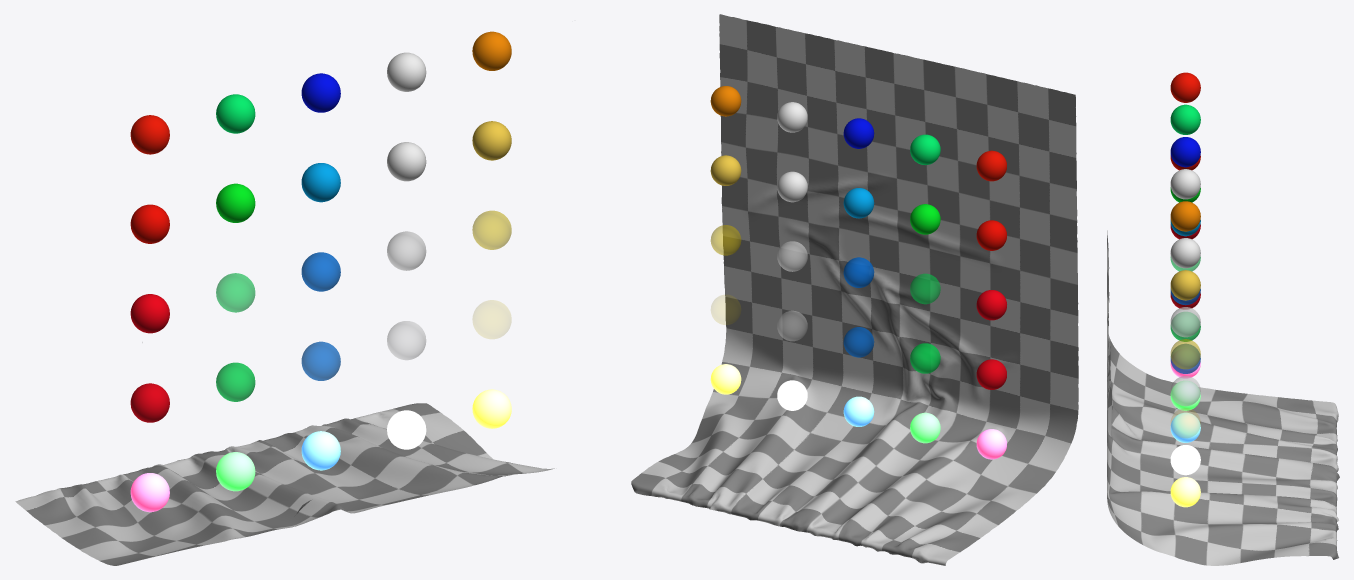
The picture shows the model from 3 angles, left to right: view 1: azimuth 30°, elevation 25°; view 2: azimuth 150°, elevation 25°; view 3: azimuth 270°, elevation 25°; orthographic projection. The views are drawn at different scales.
Parts seen in each view (by area): view 1: Cloth Backdrop, Sphere_metal0, Sphere_emissive0, Sphere_rough2, Sphere_emissive2, Sphere_rough4, Sphere_emissive3, Sphere_alpha3, Sphere_rough0, Sphere_metal4, Sphere_metal1, Sphere_transp4 (+14 smaller); view 2: Cloth Backdrop, Sphere_metal4, Sphere_emissive3, Sphere_rough3, Sphere_metal1, Sphere_emissive0, Sphere_rough2, Sphere_rough0, Sphere_transp2, Sphere_emissive1, Sphere_alpha4, Sphere_alpha2 (+14 smaller); view 3: Cloth Backdrop, Sphere_metal0, Sphere_rough0, Sphere_metal1, Sphere_emissive2, Sphere_emissive0, Sphere_rough4, Sphere_transp1, Sphere_rough1, Sphere_rough2, Sphere_rough3, Sphere_emissive1 (+6 smaller).
Part boxes in pixels (x1=…): Cloth Backdrop: x1=15, y1=342, x2=554, y2=565; Sphere_metal0: x1=472, y1=121, x2=511, y2=160; Sphere_emissive0: x1=472, y1=389, x2=511, y2=428; Sphere_rough2: x1=301, y1=73, x2=340, y2=112; Sphere_emissive2: x1=301, y1=431, x2=340, y2=470; Sphere_rough4: x1=130, y1=115, x2=169, y2=154; Sphere_emissive3: x1=216, y1=452, x2=255, y2=491; Sphere_alpha3: x1=216, y1=362, x2=255, y2=401; Sphere_rough0: x1=472, y1=31, x2=511, y2=70; Sphere_metal4: x1=130, y1=204, x2=169, y2=243; Sphere_metal1: x1=387, y1=142, x2=426, y2=181; Sphere_transp4: x1=130, y1=294, x2=169, y2=333; Cloth Backdrop: x1=631, y1=14, x2=1078, y2=565; Sphere_metal4: x1=976, y1=220, x2=1006, y2=250; Sphere_emissive3: x1=910, y1=412, x2=940, y2=443; Sphere_rough3: x1=910, y1=134, x2=940, y2=165; Sphere_metal1: x1=777, y1=171, x2=807, y2=202; Sphere_emissive0: x1=710, y1=364, x2=741, y2=394; Sphere_rough2: x1=843, y1=118, x2=874, y2=148; Sphere_rough0: x1=710, y1=86, x2=741, y2=116; Sphere_transp2: x1=843, y1=257, x2=874, y2=287; Sphere_emissive1: x1=777, y1=380, x2=807, y2=410; Sphere_alpha4: x1=976, y1=359, x2=1006, y2=389; Sphere_alpha2: x1=843, y1=327, x2=874, y2=357; Cloth Backdrop: x1=1107, y1=230, x2=1339, y2=565; Sphere_metal0: x1=1170, y1=270, x2=1200, y2=300; Sphere_rough0: x1=1170, y1=201, x2=1200, y2=231; Sphere_metal1: x1=1170, y1=238, x2=1200, y2=268; Sphere_emissive2: x1=1170, y1=412, x2=1200, y2=442; Sphere_emissive0: x1=1170, y1=477, x2=1200, y2=507; Sphere_rough4: x1=1170, y1=72, x2=1200, y2=102; Sphere_transp1: x1=1170, y1=307, x2=1200, y2=337; Sphere_rough1: x1=1170, y1=169, x2=1200, y2=199; Sphere_rough2: x1=1170, y1=137, x2=1200, y2=167; Sphere_rough3: x1=1170, y1=104, x2=1200, y2=134; Sphere_emissive1: x1=1170, y1=445, x2=1200, y2=475.
Size of the model in its own units: 27.04 by 28.34 by 15.31.
26 materials, 1 textured.
